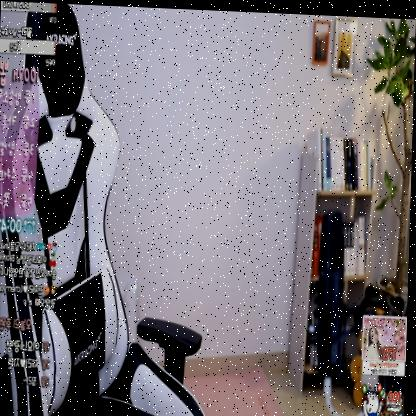donation: (362, 309, 409, 373), (362, 373, 408, 416)
